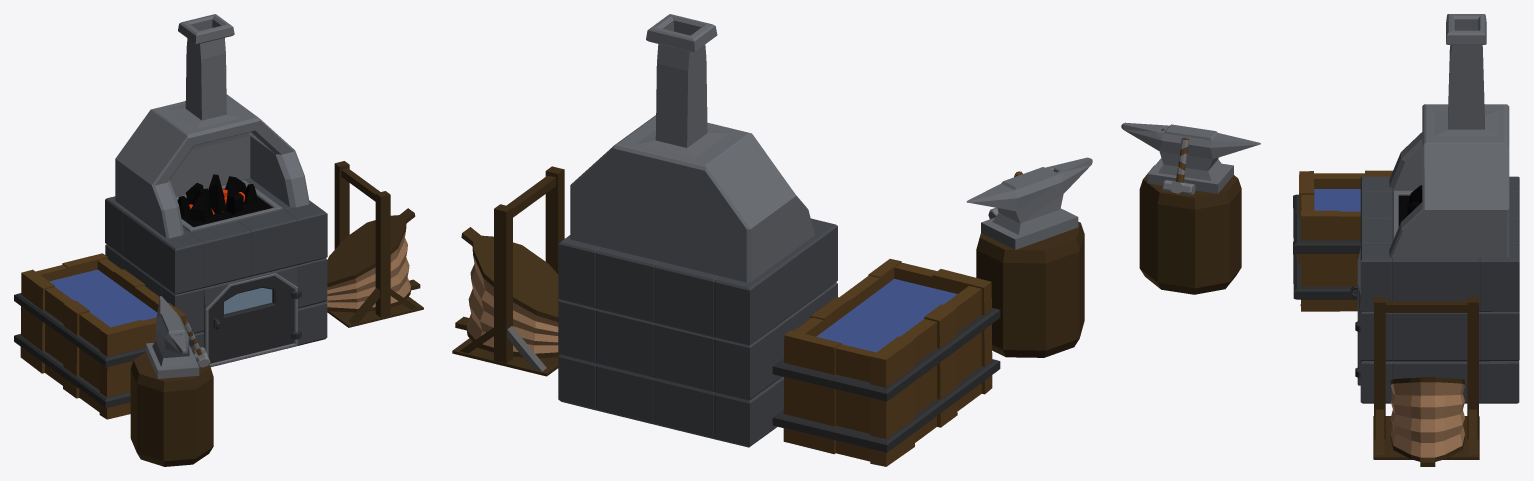
File: forge.glb
3 views of the same model, side by side, from view 1: azimuth 30°, elevation 25°; view 2: azimuth 150°, elevation 25°; view 3: azimuth 270°, elevation 25° (orthographic). The views are drawn at different scales.
Visible parts, largest first — view 1: SM_Metalworking_Prop_Forge_012, SM_Metalworking_Prop_QuenchingTub_012, SM_Metalworking_Prop_AnvilStand_012, SM_Metalworking_Prop_Bellows_012, SM_Metalworking_Prop_CoalPile_02; view 2: SM_Metalworking_Prop_Forge_012, SM_Metalworking_Prop_QuenchingTub_012, SM_Metalworking_Prop_AnvilStand_012, SM_Metalworking_Prop_Bellows_012; view 3: SM_Metalworking_Prop_Forge_012, SM_Metalworking_Prop_AnvilStand_012, SM_Metalworking_Prop_Bellows_012, SM_Metalworking_Prop_QuenchingTub_012, SM_Metalworking_Prop_Hammer_01.
Part boxes in pixels (x1=…): SM_Metalworking_Prop_Forge_012: x1=105, y1=14, x2=327, y2=366; SM_Metalworking_Prop_QuenchingTub_012: x1=14, y1=253, x2=193, y2=419; SM_Metalworking_Prop_AnvilStand_012: x1=130, y1=296, x2=213, y2=466; SM_Metalworking_Prop_Bellows_012: x1=326, y1=161, x2=423, y2=327; SM_Metalworking_Prop_CoalPile_02: x1=177, y1=174, x2=258, y2=221; SM_Metalworking_Prop_Forge_012: x1=558, y1=14, x2=837, y2=447; SM_Metalworking_Prop_QuenchingTub_012: x1=772, y1=259, x2=1000, y2=466; SM_Metalworking_Prop_AnvilStand_012: x1=966, y1=157, x2=1092, y2=357; SM_Metalworking_Prop_Bellows_012: x1=452, y1=166, x2=564, y2=376; SM_Metalworking_Prop_Forge_012: x1=1350, y1=14, x2=1519, y2=403; SM_Metalworking_Prop_AnvilStand_012: x1=1121, y1=122, x2=1260, y2=294; SM_Metalworking_Prop_Bellows_012: x1=1373, y1=297, x2=1479, y2=466; SM_Metalworking_Prop_QuenchingTub_012: x1=1293, y1=170, x2=1392, y2=311; SM_Metalworking_Prop_Hammer_01: x1=1162, y1=137, x2=1195, y2=194.
Size of the model in its own units: 3.82 by 2.83 by 3.
6 materials, 6 textured.
